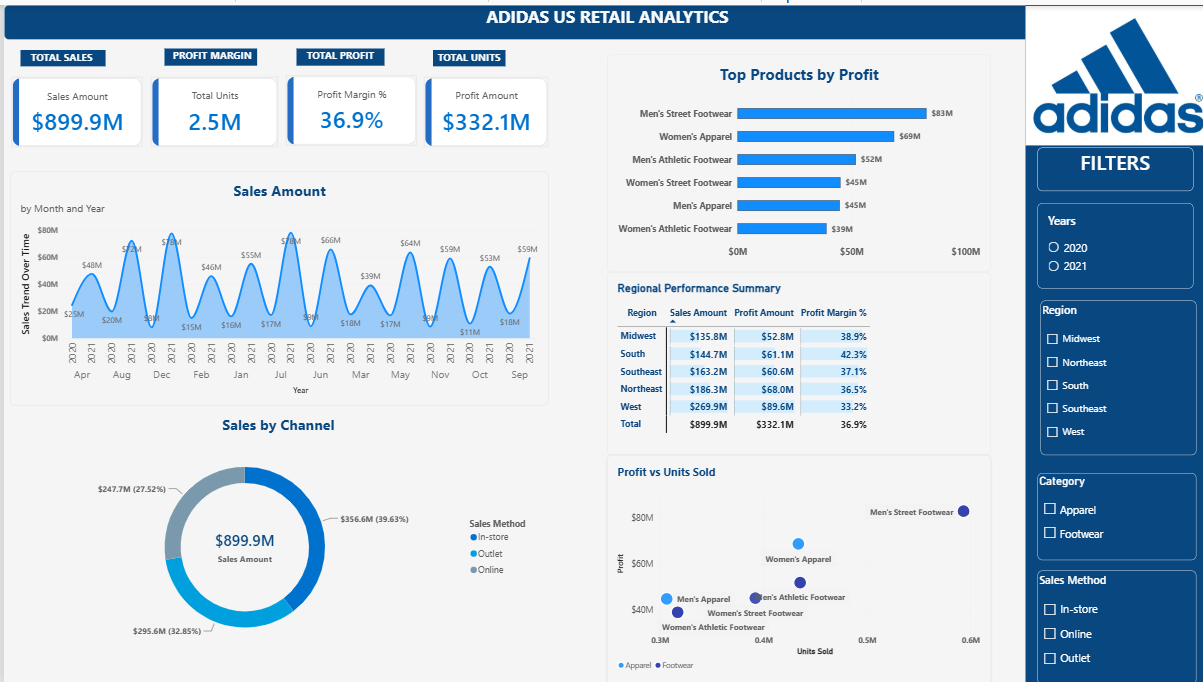

The dashboard page shown, as its layout file describes it:
{"tool":"powerbi","page":{"name":"Page 1","canvas":[1920,1080],"ordinal":0},"visuals":[{"type":"cardVisual","fields":{"Data":["Sales Adidas.Sales Amount"]},"box":[10.8,113.8,208.4,111.3],"z":0},{"type":"cardVisual","fields":{"Data":["Sales Adidas.Profit Amount"]},"box":[667.7,113.8,197.2,111.3],"z":1000},{"type":"cardVisual","fields":{"Data":["Sales Adidas.Profit Margin %"]},"box":[448.3,111.7,208.4,111.3],"z":2000},{"type":"cardVisual","fields":{"Data":["Sales Adidas.Total Units"]},"box":[233.3,113.3,202,111.3],"z":3000},{"type":"lineChart","fields":{"Y":["Sales Adidas.Sales Amount"],"Category":["Date.Month","Date.Year"]},"box":[9.5,264.8,856.5,372.2],"z":4000},{"type":"textbox","box":[26.2,70.8,135.4,26.2],"z":5000},{"type":"textbox","box":[465,70,140,27.5],"z":6000},{"type":"textbox","box":[255,70,147.5,27.5],"z":7000},{"type":"textbox","box":[683.1,70.8,115.4,26.2],"z":8000},{"type":"textbox","box":[0,0,1920,55],"z":9000},{"type":"clusteredBarChart","title":"Top Products by Profit","fields":{"Category":["Sales Adidas.Product"],"Y":["Sales Adidas.Profit Amount"]},"box":[959.1,78.7,610.8,346],"z":10000},{"type":"donutChart","title":"Sales by Channel","fields":{"Category":["Sales Adidas.Sales Method"],"Y":["Sales Adidas.Sales Amount"]},"box":[10,638,854,406],"z":11000},{"type":"pivotTable","title":"Regional Performance Summary","fields":{"Rows":["Sales Adidas.Region"],"Values":["Sales Adidas.Sales Amount","Sales Adidas.Profit Amount","Sales Adidas.Profit Margin %"]},"box":[959.1,424.7,610.8,291.1],"z":12000},{"type":"shape","box":[1626,0,294,1080],"z":13000},{"type":"scatterChart","title":"Profit vs Units Sold","fields":{"Y":["Sales Adidas.Profit Amount"],"Series":["Sales Adidas.Product Category"],"Category":["Sales Adidas.Product"],"X":["Sum(Sales Adidas.Units Sold)"]},"box":[959.1,715.8,610.8,365],"z":14000},{"type":"textbox","box":[1643.9,226.7,248.1,69.2],"z":15000},{"type":"listSlicer","title":"Years","fields":{"Values":["Date.Year"]},"box":[1643.9,314.9,248.1,136],"z":16000},{"type":"slicer","title":"Region","fields":{"Values":["Sales Adidas.Region"]},"box":[1648.7,470,248.1,245.7],"z":17000},{"type":"slicer","title":"Category","fields":{"Values":["Sales Adidas.Product Category"]},"box":[1643.9,744.4,252.9,138.4],"z":17001},{"type":"slicer","title":"Sales Method","fields":{"Values":["Sales Adidas.Sales Method"]},"box":[1643.9,899.5,252.9,181.3],"z":17002},{"type":"image","box":[1624.8,0,295.9,224.3],"z":17003}]}

Visuals, with their boxes in screenshot pixels (x1, y1, x2, y2), scaled from the page's 1920x1080 canvas onto the 1203x682 screenshot:
cardVisual - Sales Adidas.Sales Amount: (7,72,137,142)
cardVisual - Sales Adidas.Profit Amount: (418,72,542,142)
cardVisual - Sales Adidas.Profit Margin %: (281,71,411,141)
cardVisual - Sales Adidas.Total Units: (146,72,273,142)
lineChart - Sales Adidas.Sales Amount x Date.Month: (6,167,543,402)
textbox: (16,45,101,61)
textbox: (291,44,379,62)
textbox: (160,44,252,62)
textbox: (428,45,500,61)
textbox: (0,0,1202,35)
"Top Products by Profit" clusteredBarChart: (601,50,984,268)
"Sales by Channel" donutChart: (6,403,541,659)
"Regional Performance Summary" pivotTable: (601,268,984,452)
shape: (1019,0,1202,681)
"Profit vs Units Sold" scatterChart: (601,452,984,681)
textbox: (1030,143,1185,187)
"Years" listSlicer: (1030,199,1185,285)
"Region" slicer: (1033,297,1188,452)
"Category" slicer: (1030,470,1188,557)
"Sales Method" slicer: (1030,568,1188,681)
image: (1018,0,1202,142)
